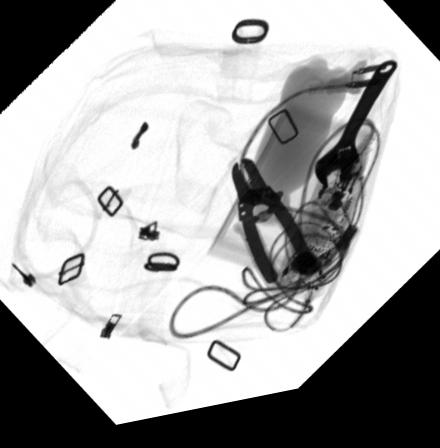Pliers: (229, 165, 316, 296)
Wrench: (312, 73, 398, 202)
